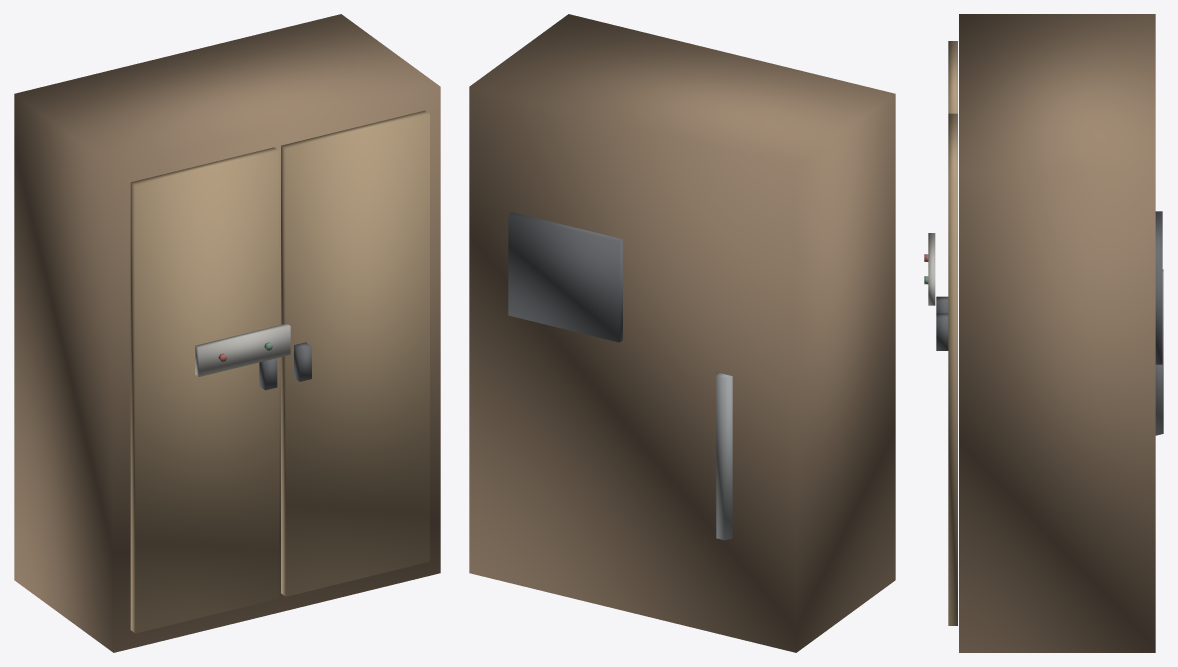
File: typesetter_drawer_cabinet__service.glb
3 renders of one model, left to right at view 1: azimuth 30°, elevation 25°; view 2: azimuth 150°, elevation 25°; view 3: azimuth 270°, elevation 25°, orthographic.
Parts seen in each view (by area): view 1: world; view 2: world; view 3: world.
Part boxes in pixels (bbox=[...]): world: bbox=[14, 14, 440, 652]; world: bbox=[469, 14, 895, 652]; world: bbox=[924, 14, 1163, 652].
Bounding box in the file's own units: 0.95 × 1.35 × 0.6091.
